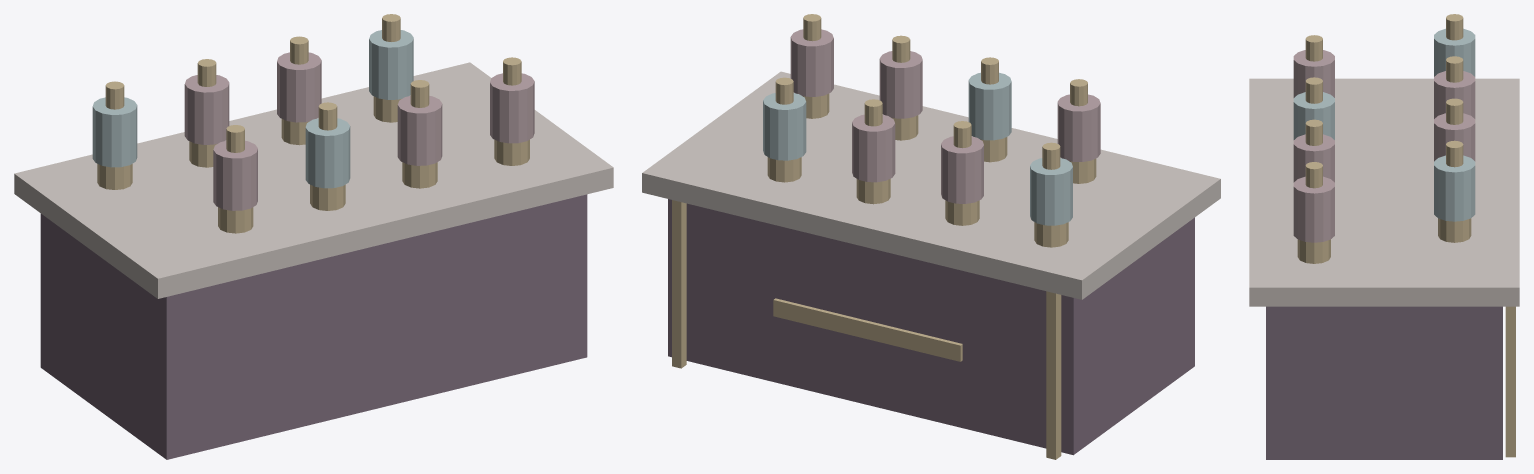
Rendered from beauty_island.glb.
The picture shows the model from 3 angles, left to right: view 1: azimuth 30°, elevation 25°; view 2: azimuth 150°, elevation 25°; view 3: azimuth 270°, elevation 25°; orthographic projection. The views are drawn at different scales.
Parts seen in each view (by area): view 1: beauty_island; view 2: beauty_island; view 3: beauty_island.
Part boxes in pixels (x1,y1,x2,y2): beauty_island: [14, 14, 613, 459]; beauty_island: [642, 14, 1220, 459]; beauty_island: [1249, 14, 1519, 459].
Size of the model in its own units: 2.82 by 1.73 by 1.54.
